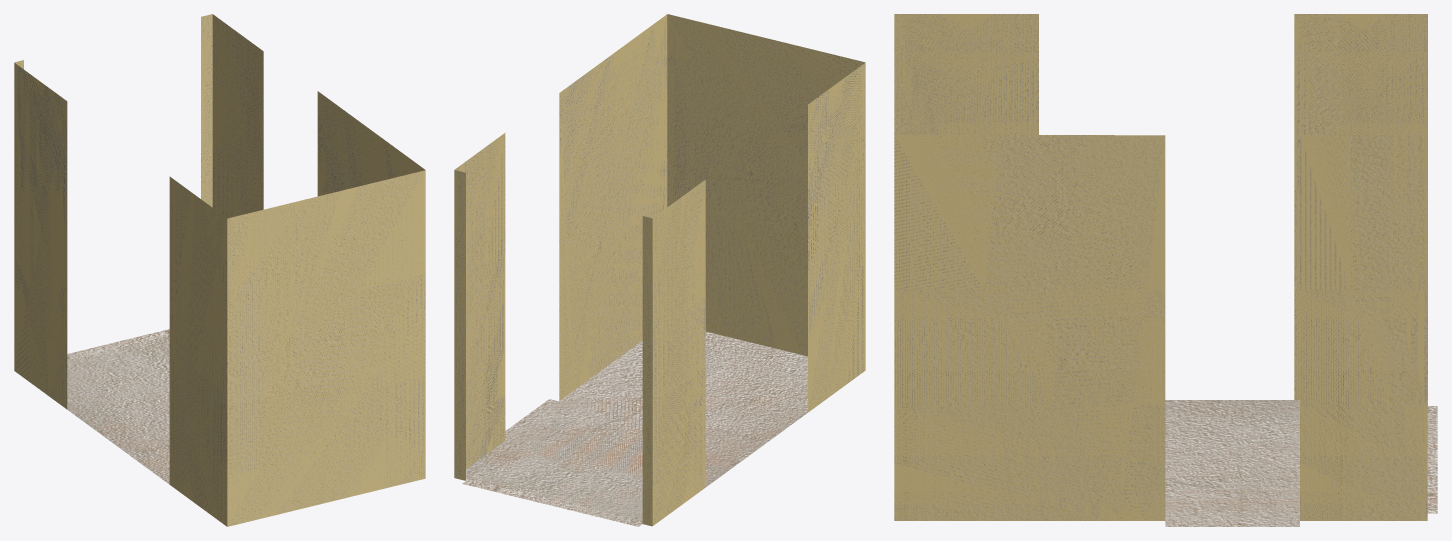
The model's file is COM006.obj.
The picture shows the model from 3 angles, left to right: view 1: azimuth 30°, elevation 25°; view 2: azimuth 150°, elevation 25°; view 3: azimuth 270°, elevation 25°; orthographic projection. The views are drawn at different scales.
Visible parts, largest first — view 1: Mesh1 COM006 Model; view 2: Mesh1 COM006 Model; view 3: Mesh1 COM006 Model.
Boxes of the visible parts, bbox=[...] form: Mesh1 COM006 Model: bbox=[14, 14, 425, 526]; Mesh1 COM006 Model: bbox=[454, 14, 865, 526]; Mesh1 COM006 Model: bbox=[894, 14, 1437, 526].
Bounding box in the file's own units: 2.12 × 3 × 3.83.
Materials: 3 (2 with a texture image).
